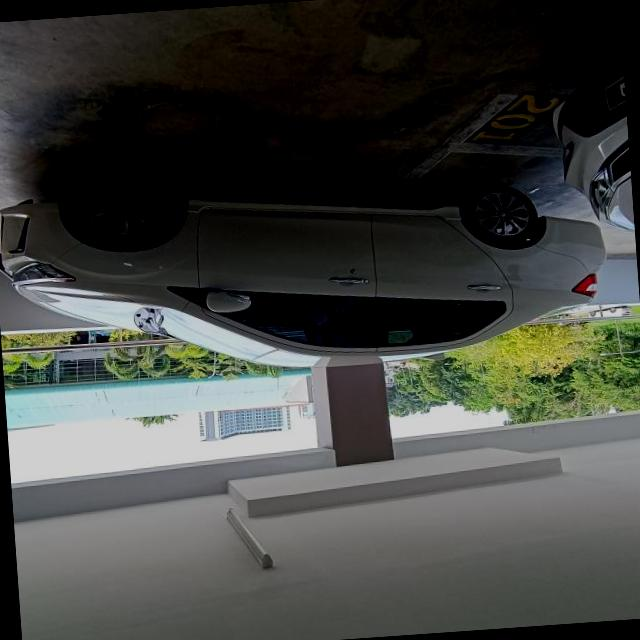PeroduaBezza: (0, 142, 614, 391)
